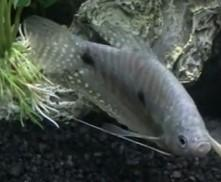Gourami: (10, 0, 214, 162)
